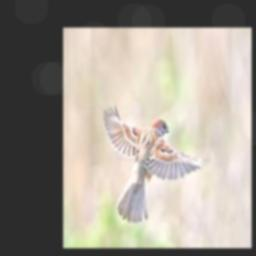Sparrow: (102, 103, 208, 223)
